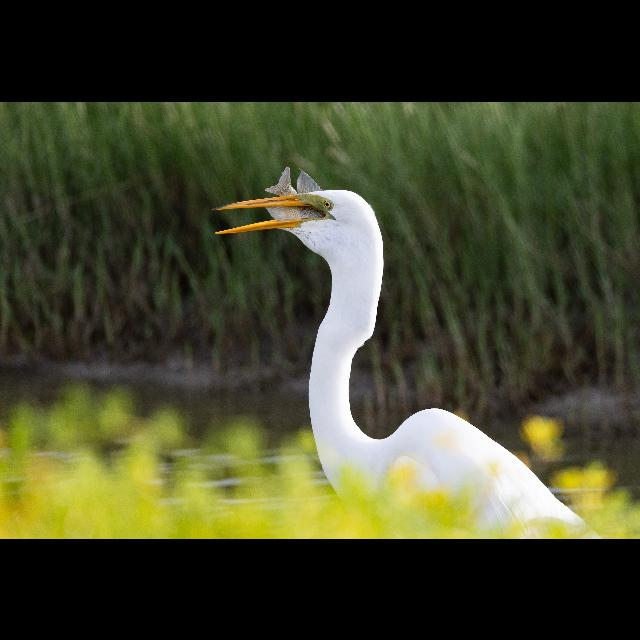egret: (208, 160, 592, 538)
